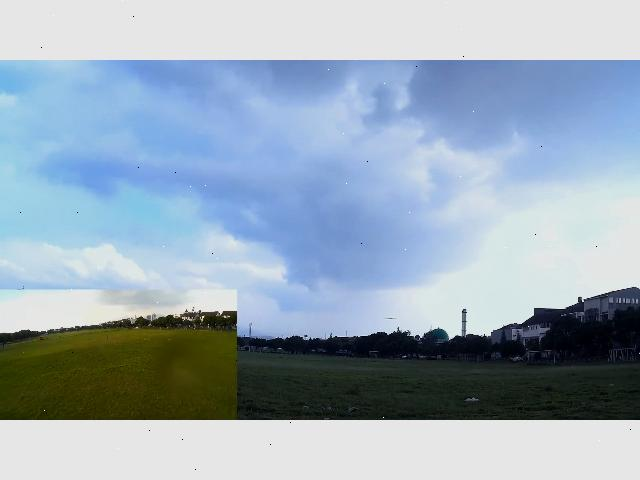Anti-Drone: (382, 314, 404, 323)
